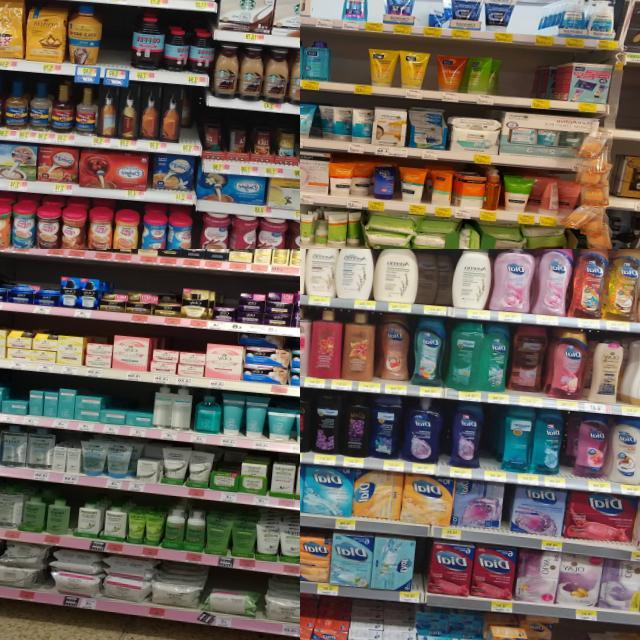100% O.O.S: (329, 42, 368, 92), (498, 57, 534, 106), (616, 71, 640, 140), (512, 0, 543, 45), (310, 0, 342, 28), (366, 0, 386, 32), (415, 0, 432, 35)
100- O.O.S: (99, 8, 133, 80), (479, 408, 498, 481), (557, 620, 582, 640)
